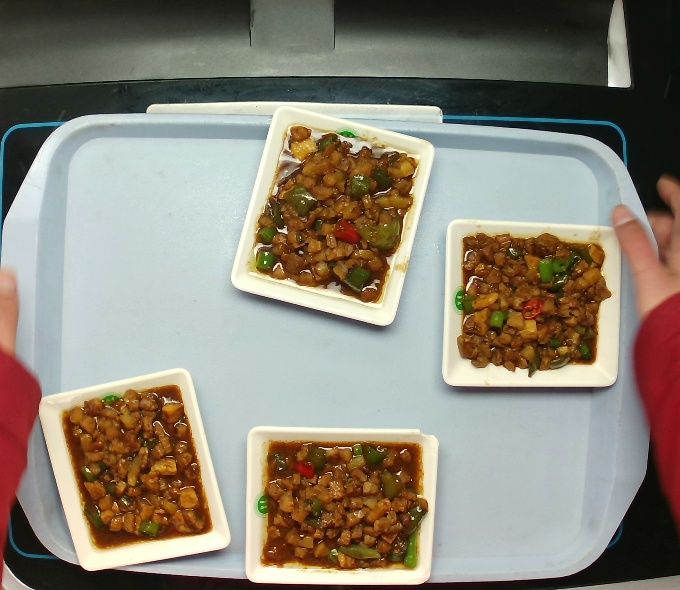wcq-XiaoJiangRou: (249, 122, 419, 311), (454, 226, 616, 382), (63, 381, 214, 546), (258, 434, 433, 576)
